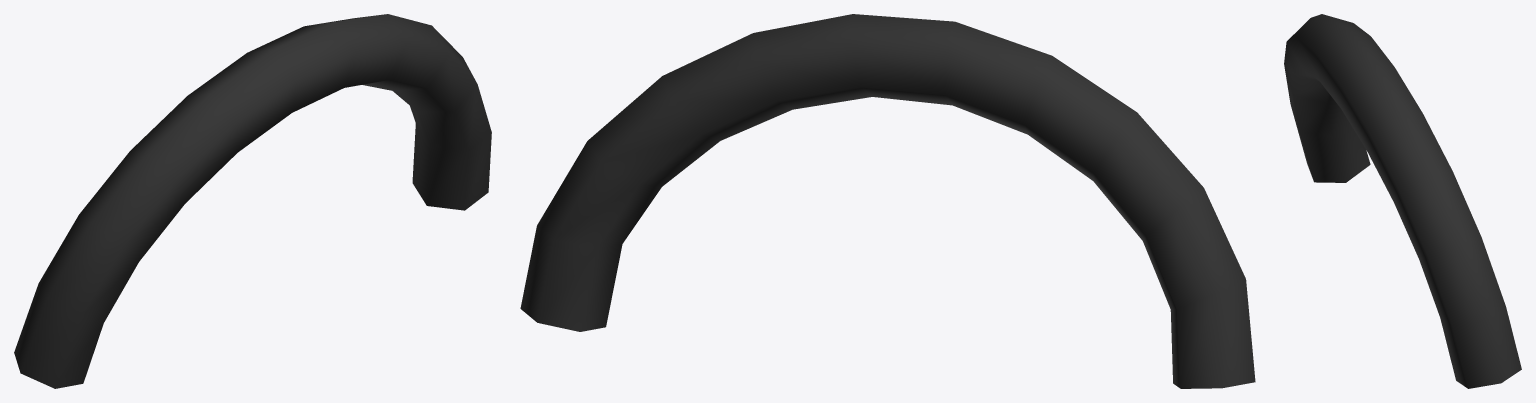
The model's file is SM_Stage_Final_Wire_character_04.fbx.
3 renders of one model, left to right at view 1: azimuth 30°, elevation 25°; view 2: azimuth 150°, elevation 25°; view 3: azimuth 270°, elevation 25°, orthographic. The views are drawn at different scales.
Parts seen in each view (by area): view 1: SM_Stage_Final_Wire_character_04; view 2: SM_Stage_Final_Wire_character_04; view 3: SM_Stage_Final_Wire_character_04.
Boxes of the visible parts, bbox=[...] form: SM_Stage_Final_Wire_character_04: bbox=[14, 14, 491, 388]; SM_Stage_Final_Wire_character_04: bbox=[520, 14, 1255, 388]; SM_Stage_Final_Wire_character_04: bbox=[1284, 14, 1521, 388].
Bounding box in the file's own units: 20.6 × 9.78 × 8.7.
1 material, 1 textured.
